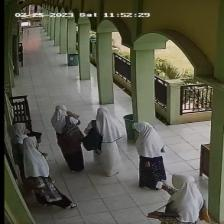HijabSyar-i: (162, 173, 205, 224), (130, 118, 169, 158), (84, 107, 124, 144), (21, 137, 52, 178), (47, 104, 85, 135), (10, 121, 30, 157)
